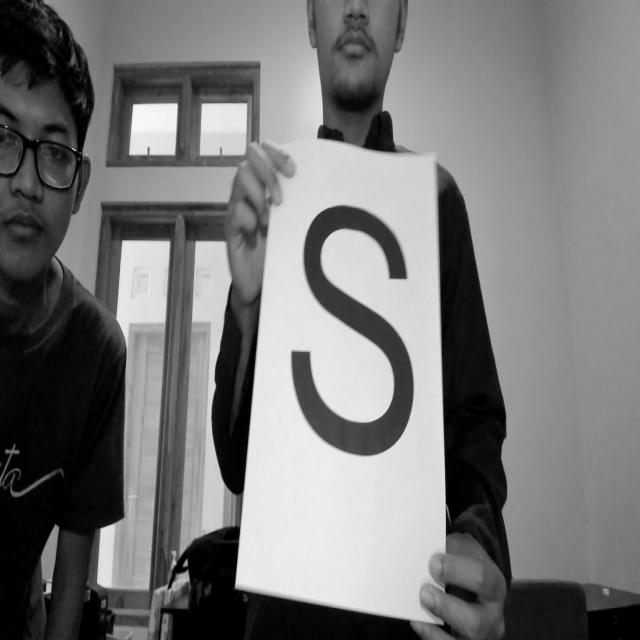s: (280, 188, 432, 485)
